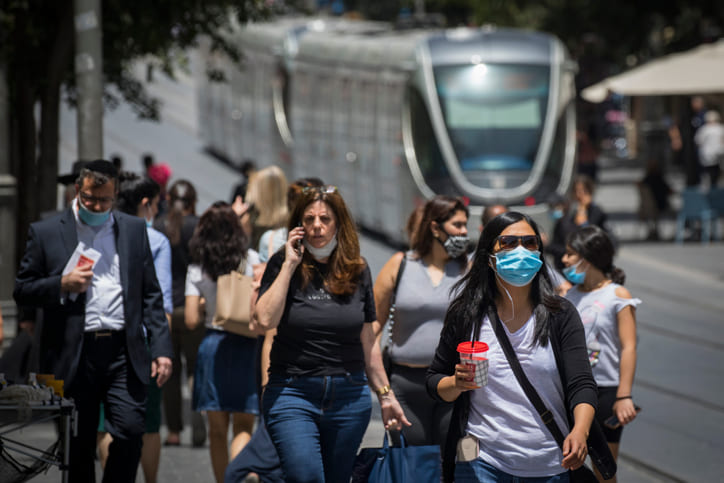with_incorrect_mask: (301, 205, 339, 258), (77, 177, 115, 227), (435, 207, 469, 255), (562, 244, 592, 284), (136, 192, 160, 225)
with_mask: (495, 230, 543, 286)
